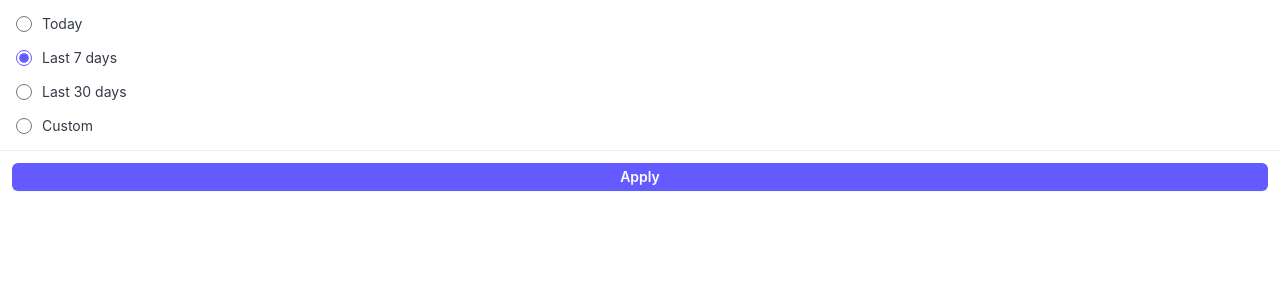
Scenario: filter panels › applies date presets and blocks inverted custom ranges
This screenshot has width=1280, height=300.
Later steps or results of the test are not shown.
Click the radio button labelled "Today".
click(24, 24)  # box [16,16,32,32]
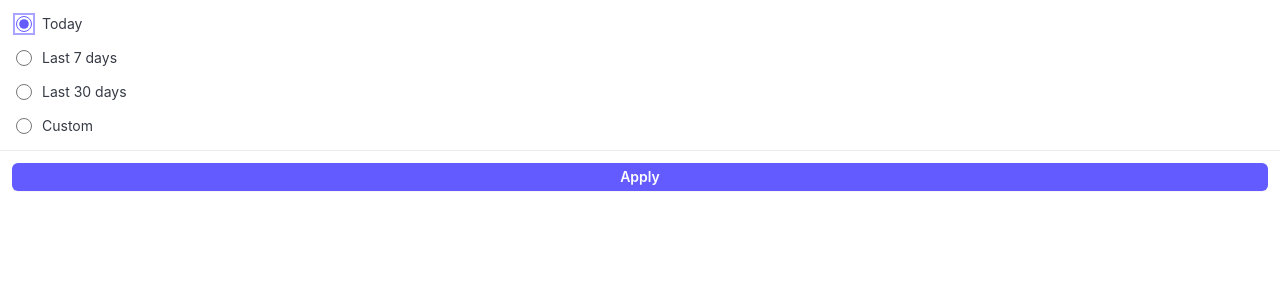
Click the button "Apply".
click(640, 177)  # box [12,163,1268,191]
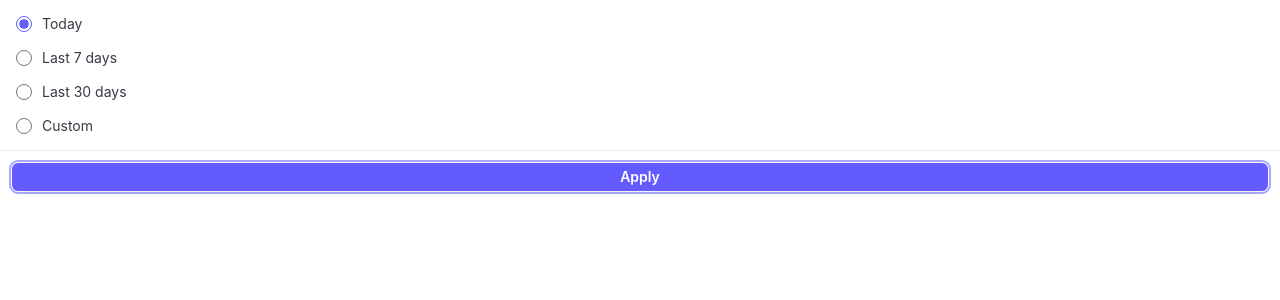
Click the radio button labelled "Custom".
click(24, 126)  # box [16,118,32,134]
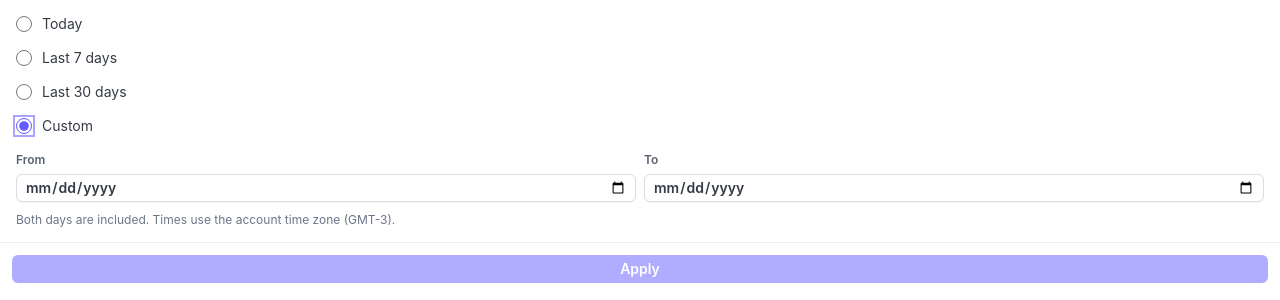
Type "2026-11-10" into the date field labelled "From".
click(326, 188); type("2026-11-10")  # box [16,174,636,202]
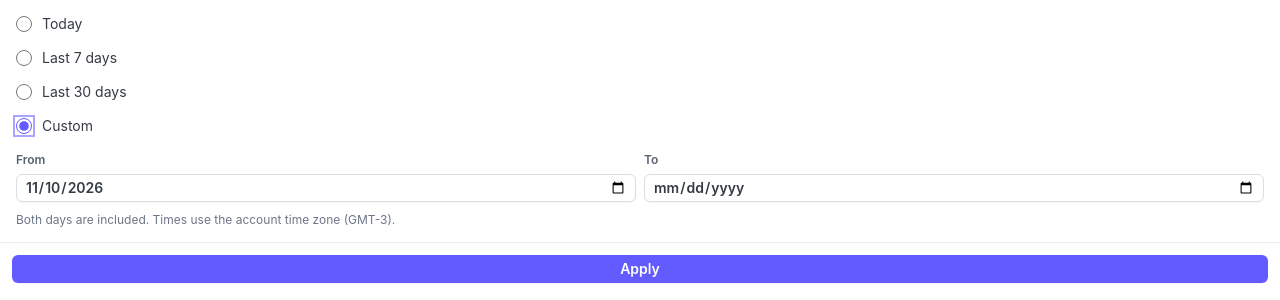
Type "2026-11-01" into the date field labelled "To".
click(954, 188); type("2026-11-01")  # box [644,174,1264,202]
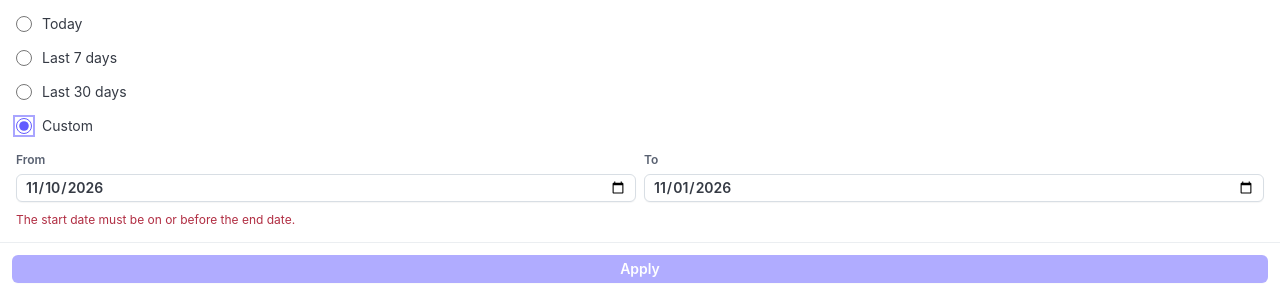
Expected: the message shows "on or before", [16,212,295,227]
Expected: the button "Apply" is disabled, [12,255,1268,283]
